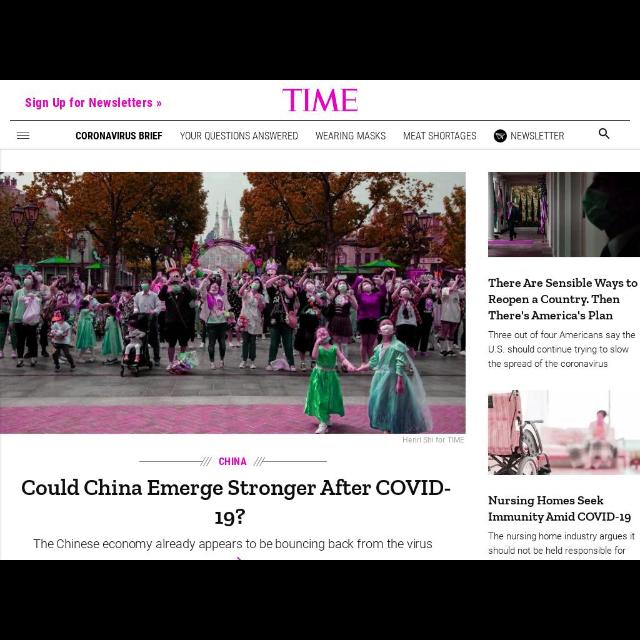icon: (493, 129, 507, 143), (598, 128, 612, 140), (17, 132, 31, 140)
image: (1, 172, 466, 434), (488, 172, 640, 256), (487, 392, 639, 474)
multitab: (75, 129, 565, 143)
text: (21, 479, 451, 527), (488, 278, 638, 320), (488, 330, 636, 370), (33, 538, 433, 552), (488, 496, 632, 522), (488, 532, 636, 554), (282, 88, 360, 112), (24, 98, 162, 110), (180, 130, 298, 140), (75, 130, 163, 140), (316, 130, 386, 140), (403, 132, 477, 140), (511, 130, 564, 140), (403, 436, 465, 444), (219, 458, 247, 467)
